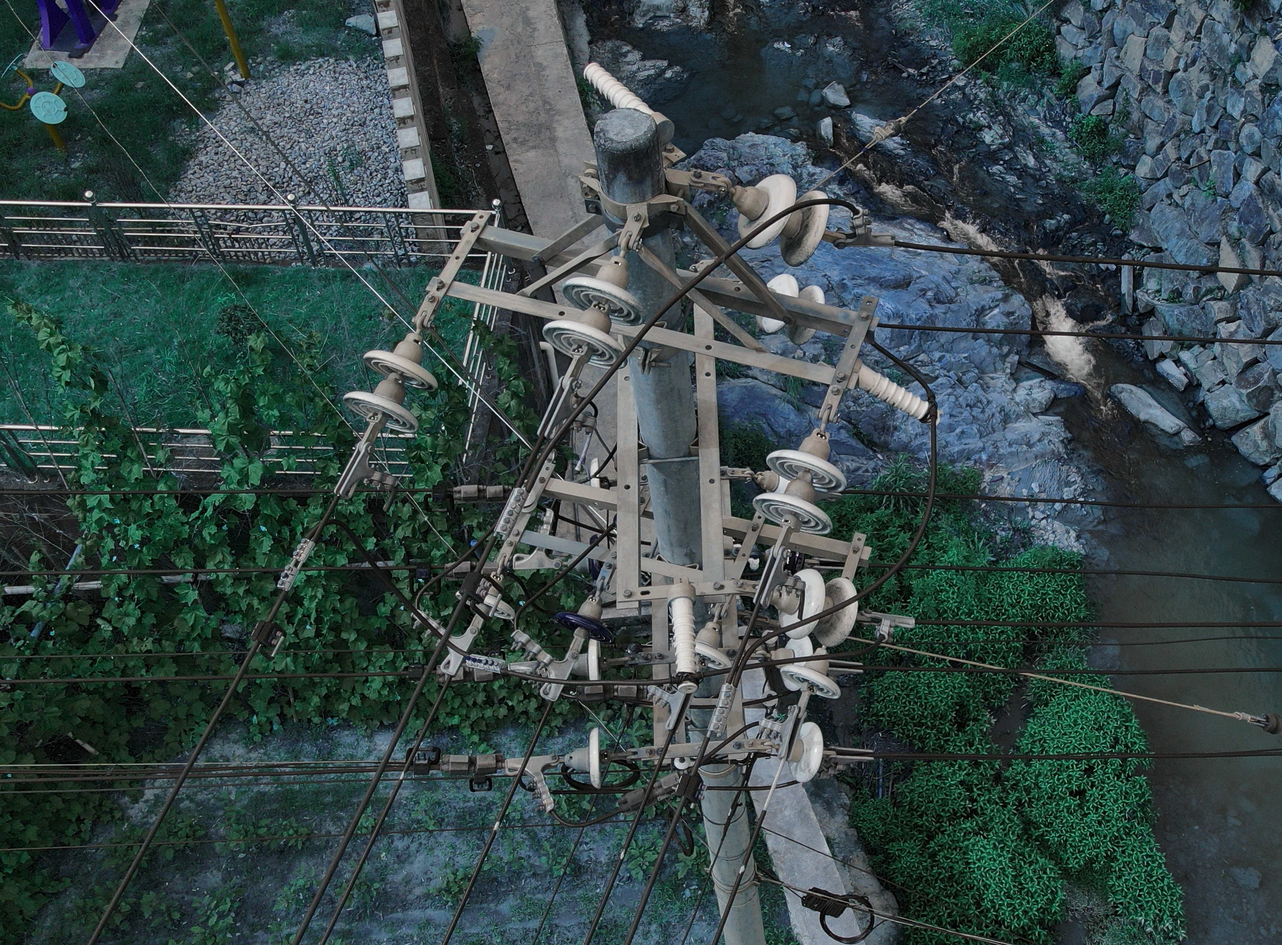severe_soiling_no_discharge_whole: (538, 252, 646, 372), (336, 328, 441, 437), (746, 429, 850, 536), (729, 171, 833, 271), (580, 61, 676, 148), (765, 566, 860, 651), (848, 357, 947, 429), (748, 273, 827, 348), (664, 580, 700, 695), (777, 645, 844, 703), (772, 719, 826, 786), (563, 722, 606, 793)
